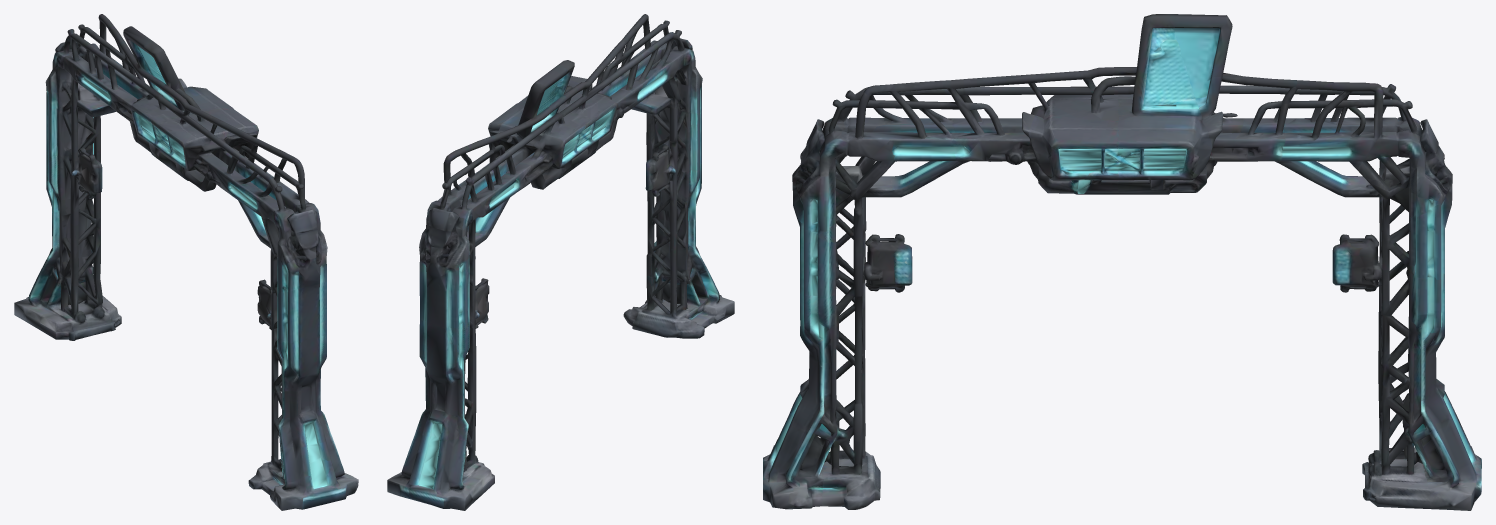
File: gantry.glb
3 renders of one model, left to right at view 1: azimuth 30°, elevation 25°; view 2: azimuth 150°, elevation 25°; view 3: azimuth 270°, elevation 25°, orthographic. The views are drawn at different scales.
Visible parts, largest first — view 1: node_b952516b-dd62-432f-b448-4c7981b1f703; view 2: node_b952516b-dd62-432f-b448-4c7981b1f703; view 3: node_b952516b-dd62-432f-b448-4c7981b1f703.
Part boxes in pixels (x1,y1,x2,y2): node_b952516b-dd62-432f-b448-4c7981b1f703: (14,14,358,510); node_b952516b-dd62-432f-b448-4c7981b1f703: (387,14,734,510); node_b952516b-dd62-432f-b448-4c7981b1f703: (763,14,1481,510).
Size of the model in its own units: 0.1776 by 0.7064 by 0.9994.
1 material, 1 textured.
